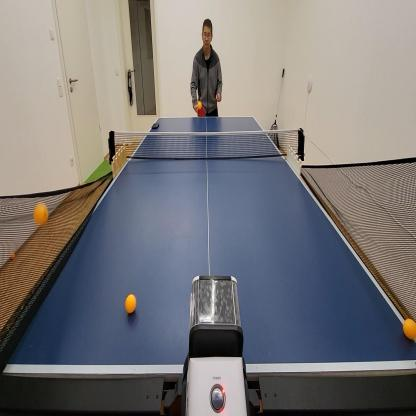Ball: (33, 203, 47, 225), (403, 317, 416, 338), (126, 294, 136, 312), (198, 100, 202, 108), (11, 252, 15, 259)
